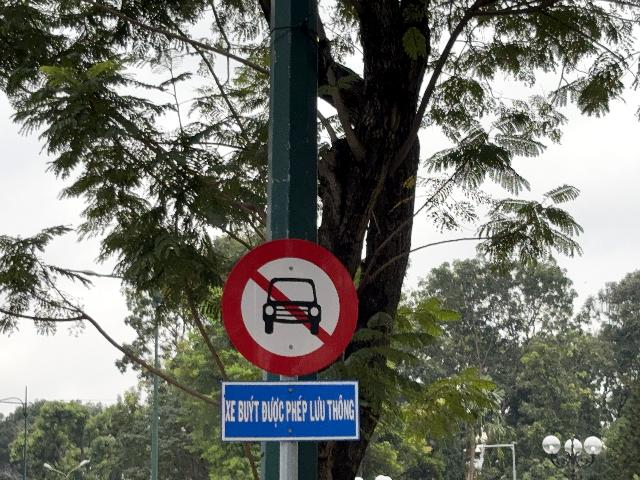cam-o-to: (222, 239, 358, 377)
